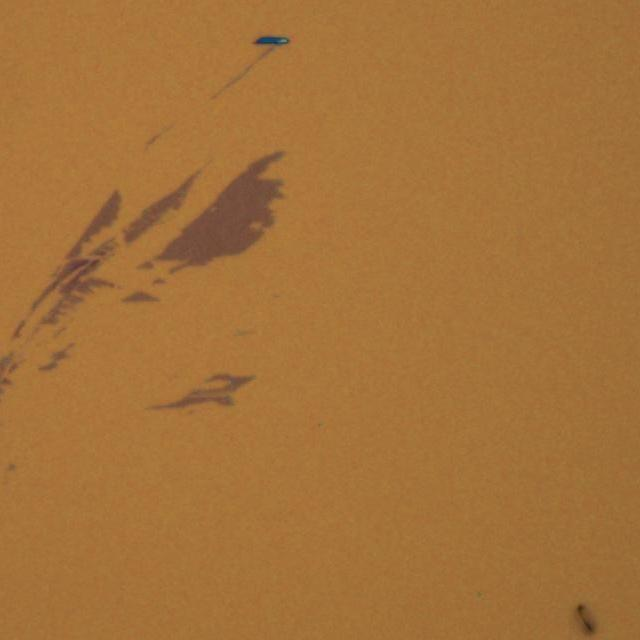monolayer-eWW4: (147, 146, 285, 274), (126, 171, 196, 252), (153, 364, 256, 411), (65, 190, 121, 258), (124, 288, 158, 304)
